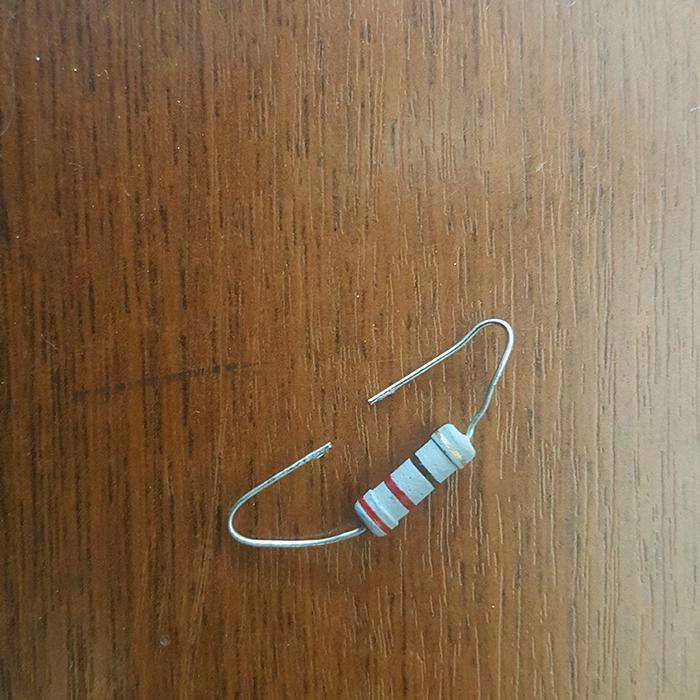resistor: (350, 421, 475, 540)
